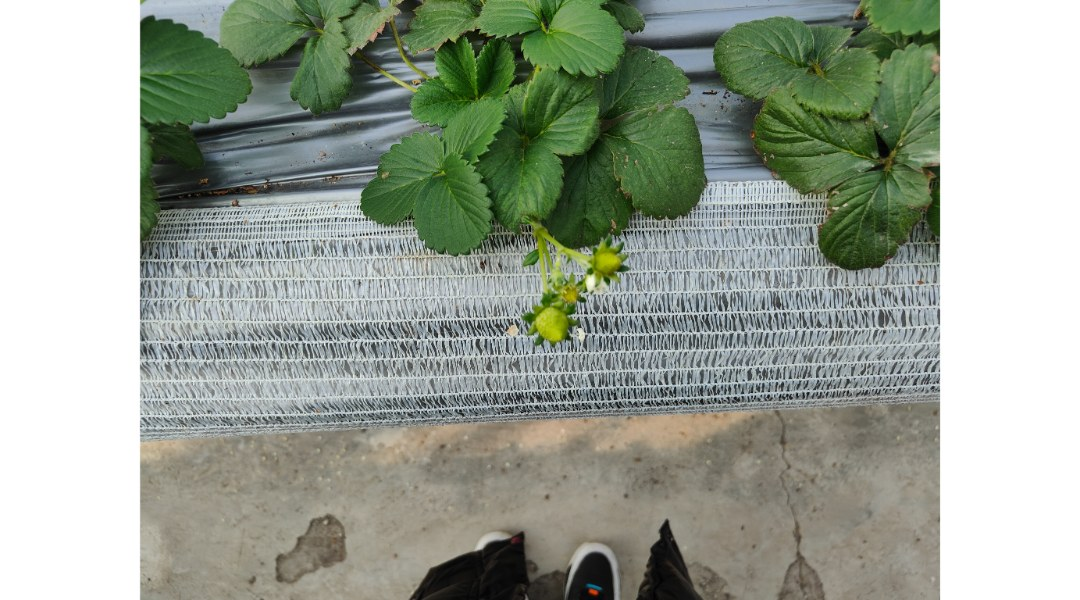berry: (521, 299, 578, 355), (584, 239, 627, 284)
strain: (530, 221, 583, 257), (536, 235, 549, 292)
